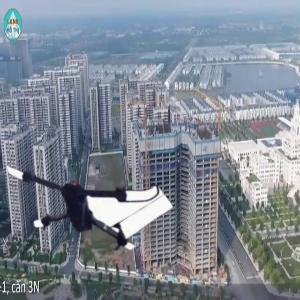drone: (5, 126, 153, 274)
